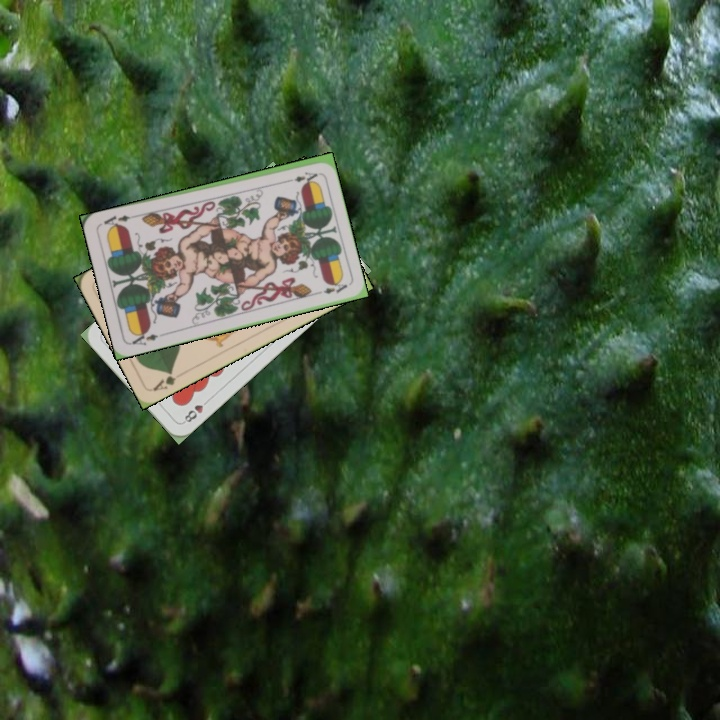EA: (127, 327, 167, 348), (281, 167, 320, 186)
GA: (149, 366, 179, 394)
H8: (179, 395, 212, 426)
